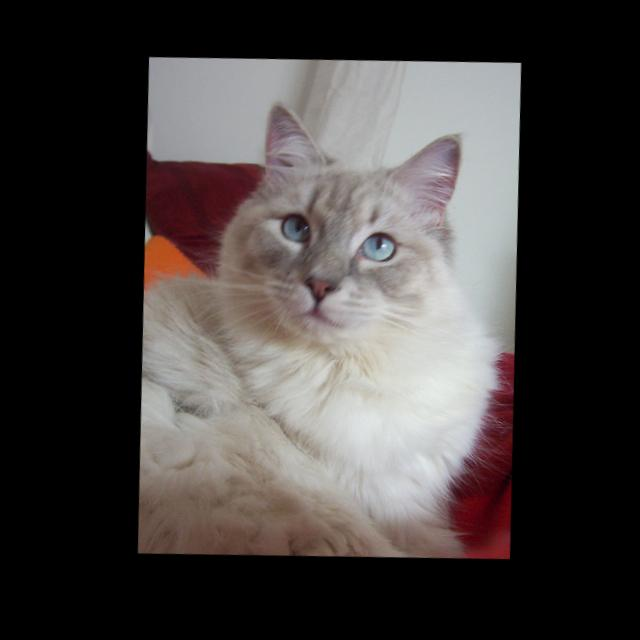animals: (256, 101, 459, 309)
